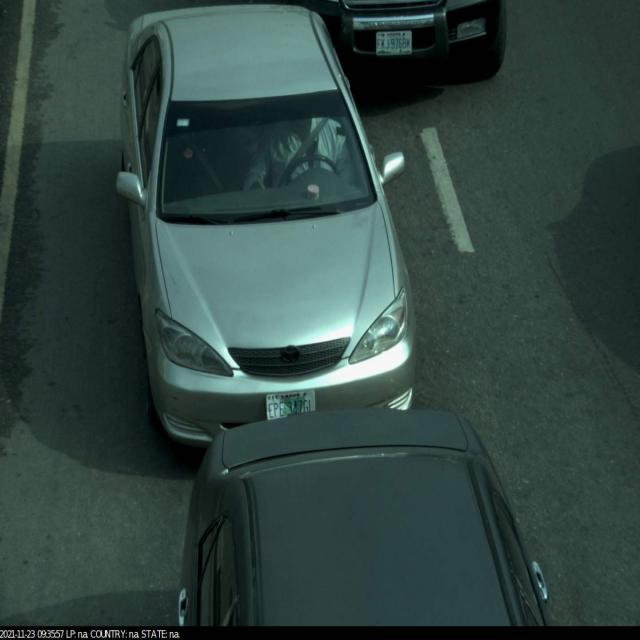windshield: (147, 85, 379, 240)
